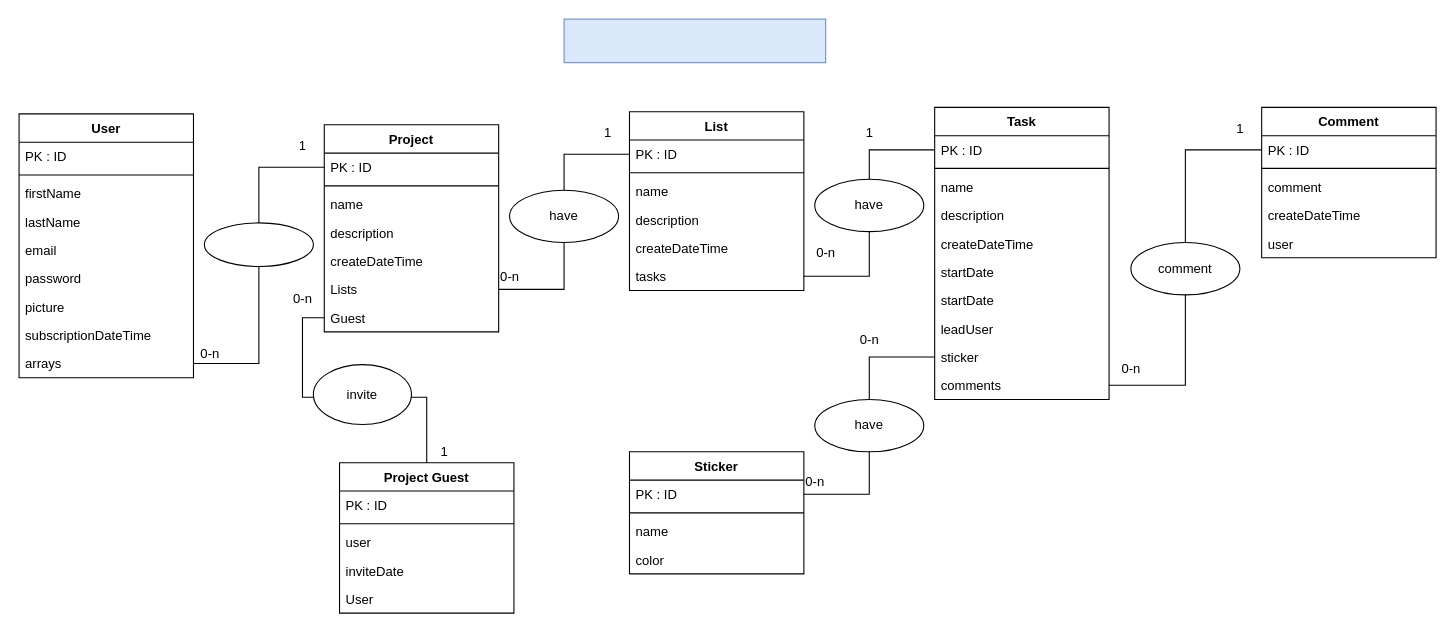
This 1455x635 diagram has some shape labels left out. The shapes that lost their labels are listed below. From the top down, each one's centre as x and y in pixels, then its label:
At point 694,40: "Database structure".
At point 258,244: "create".
